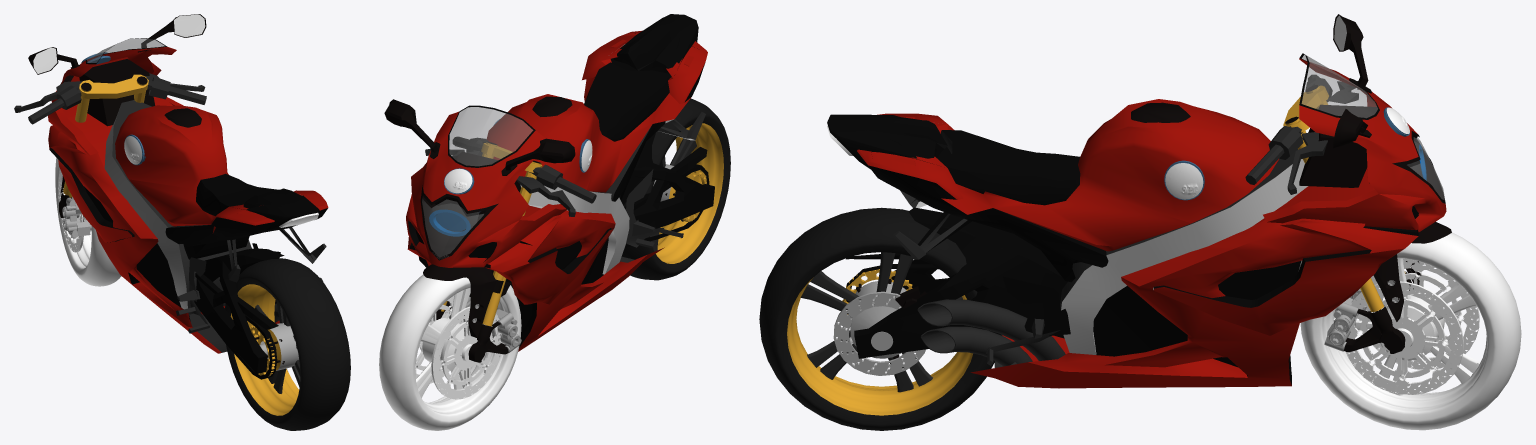
3 views of the same model, side by side, from view 1: azimuth 30°, elevation 25°; view 2: azimuth 150°, elevation 25°; view 3: azimuth 270°, elevation 25° (orthographic). The views are drawn at different scales.
Parts seen in each view (by area): view 1: 3D_Object_#5_001, 3D_Object_#1_001, 3D_Object__001, 3D_Object_#4_001, 3D_Object_#8_001, 3D_Object_#6_001, 3D_Object_#2_001, 3D_Object_#3_001, Group_003; view 2: 3D_Object_#5_001, 3D_Object_#4_001, 3D_Object_#1_001, 3D_Object__001, 3D_Object_#3_001, 3D_Object_#8_001, Group_002, Group_001, 3D_Object_#2_001, Group_007, 3D_Object_#6_001, Group_003; view 3: 3D_Object_#5_001, 3D_Object_#1_001, 3D_Object_#4_001, 3D_Object__001, 3D_Object_#3_001, 3D_Object_#6_001, 3D_Object_#8_001, Group_005, 3D_Object_#2_001, Group_002.
Boxes of the visible parts, x1,y1,x2,y2 form: 3D_Object_#5_001: (28, 14, 328, 353); 3D_Object_#1_001: (224, 258, 350, 430); 3D_Object__001: (194, 248, 284, 379); 3D_Object_#4_001: (55, 158, 121, 286); 3D_Object_#8_001: (14, 73, 206, 124); 3D_Object_#6_001: (79, 59, 155, 126); 3D_Object_#2_001: (75, 74, 148, 122); 3D_Object_#3_001: (59, 176, 91, 237); Group_003: (124, 134, 145, 165); 3D_Object_#5_001: (384, 14, 707, 351); 3D_Object_#4_001: (379, 274, 521, 430); 3D_Object_#1_001: (621, 98, 730, 280); 3D_Object__001: (621, 132, 714, 247); 3D_Object_#3_001: (423, 264, 521, 362); 3D_Object_#8_001: (425, 136, 596, 216); Group_002: (422, 198, 483, 259); Group_001: (429, 203, 479, 236); 3D_Object_#2_001: (481, 141, 542, 293); Group_007: (444, 168, 474, 194); 3D_Object_#6_001: (454, 151, 520, 192); Group_003: (579, 139, 592, 172); 3D_Object_#5_001: (827, 14, 1446, 388); 3D_Object_#1_001: (759, 207, 1002, 430); 3D_Object_#4_001: (1300, 232, 1521, 430); 3D_Object__001: (843, 207, 1067, 358); 3D_Object_#3_001: (1324, 221, 1451, 353); 3D_Object_#6_001: (1299, 104, 1377, 187); 3D_Object_#8_001: (1245, 74, 1358, 194); Group_005: (1164, 160, 1204, 200); 3D_Object_#2_001: (1283, 85, 1328, 163); Group_002: (1410, 137, 1444, 199).
Bounding box in the file's own units: 33.27 × 46.43 × 88.54.
